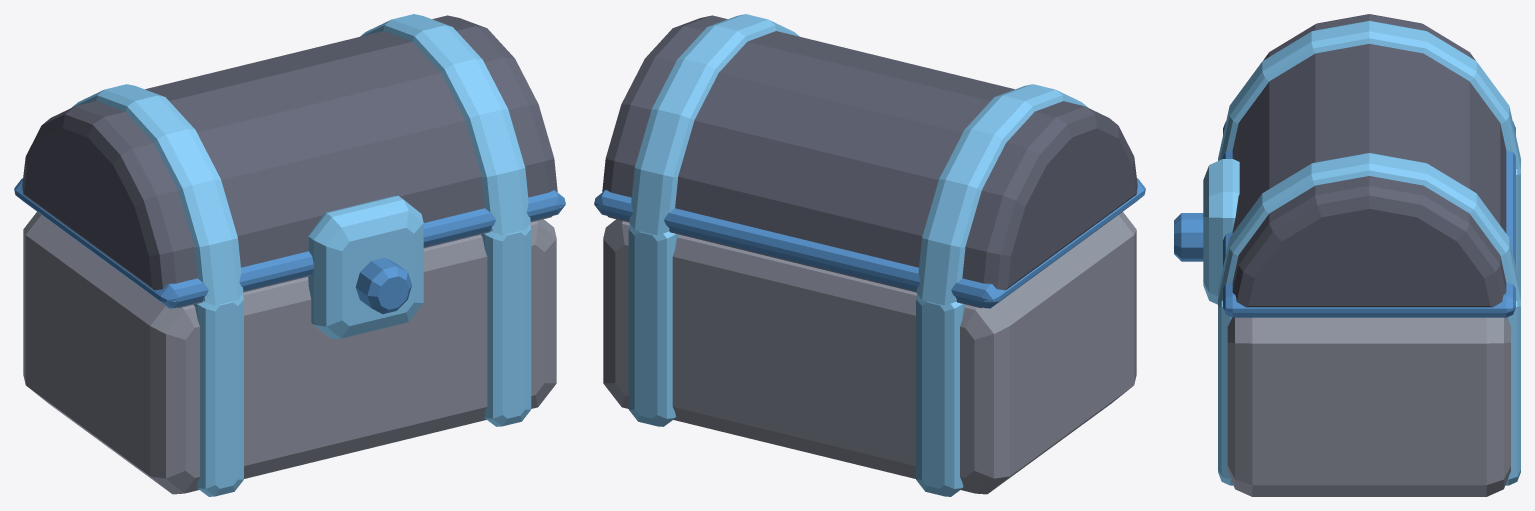
Rendered from game-ui-icon-library-chest-rare-309edea5__19002.glb.
3 renders of one model, left to right at view 1: azimuth 30°, elevation 25°; view 2: azimuth 150°, elevation 25°; view 3: azimuth 270°, elevation 25°, orthographic. The views are drawn at different scales.
Parts seen in each view (by area): view 1: chest-rare; view 2: chest-rare; view 3: chest-rare.
Part boxes in pixels (x1,y1,x2,y2): chest-rare: (14, 14, 565, 496); chest-rare: (594, 14, 1145, 496); chest-rare: (1174, 14, 1520, 496).
Bounding box in the file's own units: 0.98 × 0.7925 × 0.7731.
